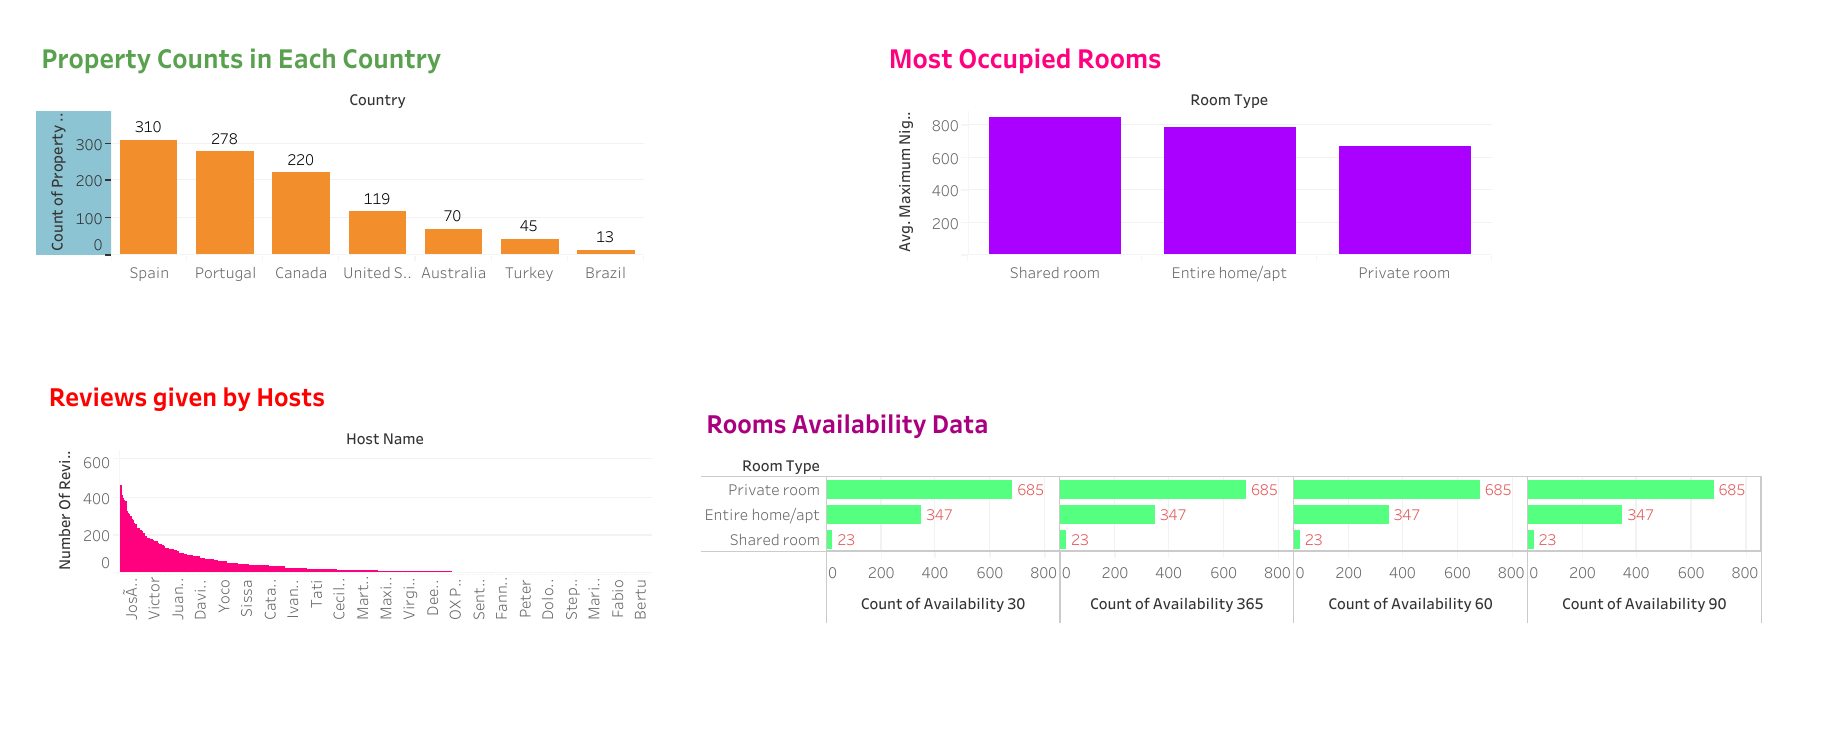

The page's visual inventory and layout, read from the dashboard file:
{"tool":"tableau","page":{"name":"Dashboard 2","canvas":[1000,1000],"units":"permille","ordinal":1},"visuals":[{"type":"worksheet","title":"Property counts","mark":"Automatic","rows":["property_type"],"cols":["country"],"box":[19.9,41.2,333.1,333.3]},{"type":"worksheet","title":"Most Occupied Rooms","mark":"Automatic","rows":["maximum_nights"],"cols":["room_type"],"box":[485.2,41.2,333.1,333.3]},{"type":"worksheet","title":"Reviews given by Hosts","mark":"Automatic","rows":["number_of_reviews"],"cols":["host_name"],"box":[24.1,491.9,333.1,333.3]},{"type":"worksheet","title":"Rooms Availability","mark":"Automatic","rows":["room_type"],"cols":["availability_30","availability_365","availability_60","availability_90"],"box":[384.6,528.1,583.5,333.3]}]}

Visuals, with their boxes on the dashboard's canvas, which has no fixed pixel size, in thousandths of its width and height (x1, y1, x2, y2). These are canvas units, not pixel positions in the 1821x753 screenshot, which may show the page scaled, cropped or inside an application window:
"Property counts" worksheet: locate(20, 41, 353, 374)
"Most Occupied Rooms" worksheet: locate(485, 41, 818, 374)
"Reviews given by Hosts" worksheet: locate(24, 492, 357, 825)
"Rooms Availability" worksheet: locate(385, 528, 968, 861)
